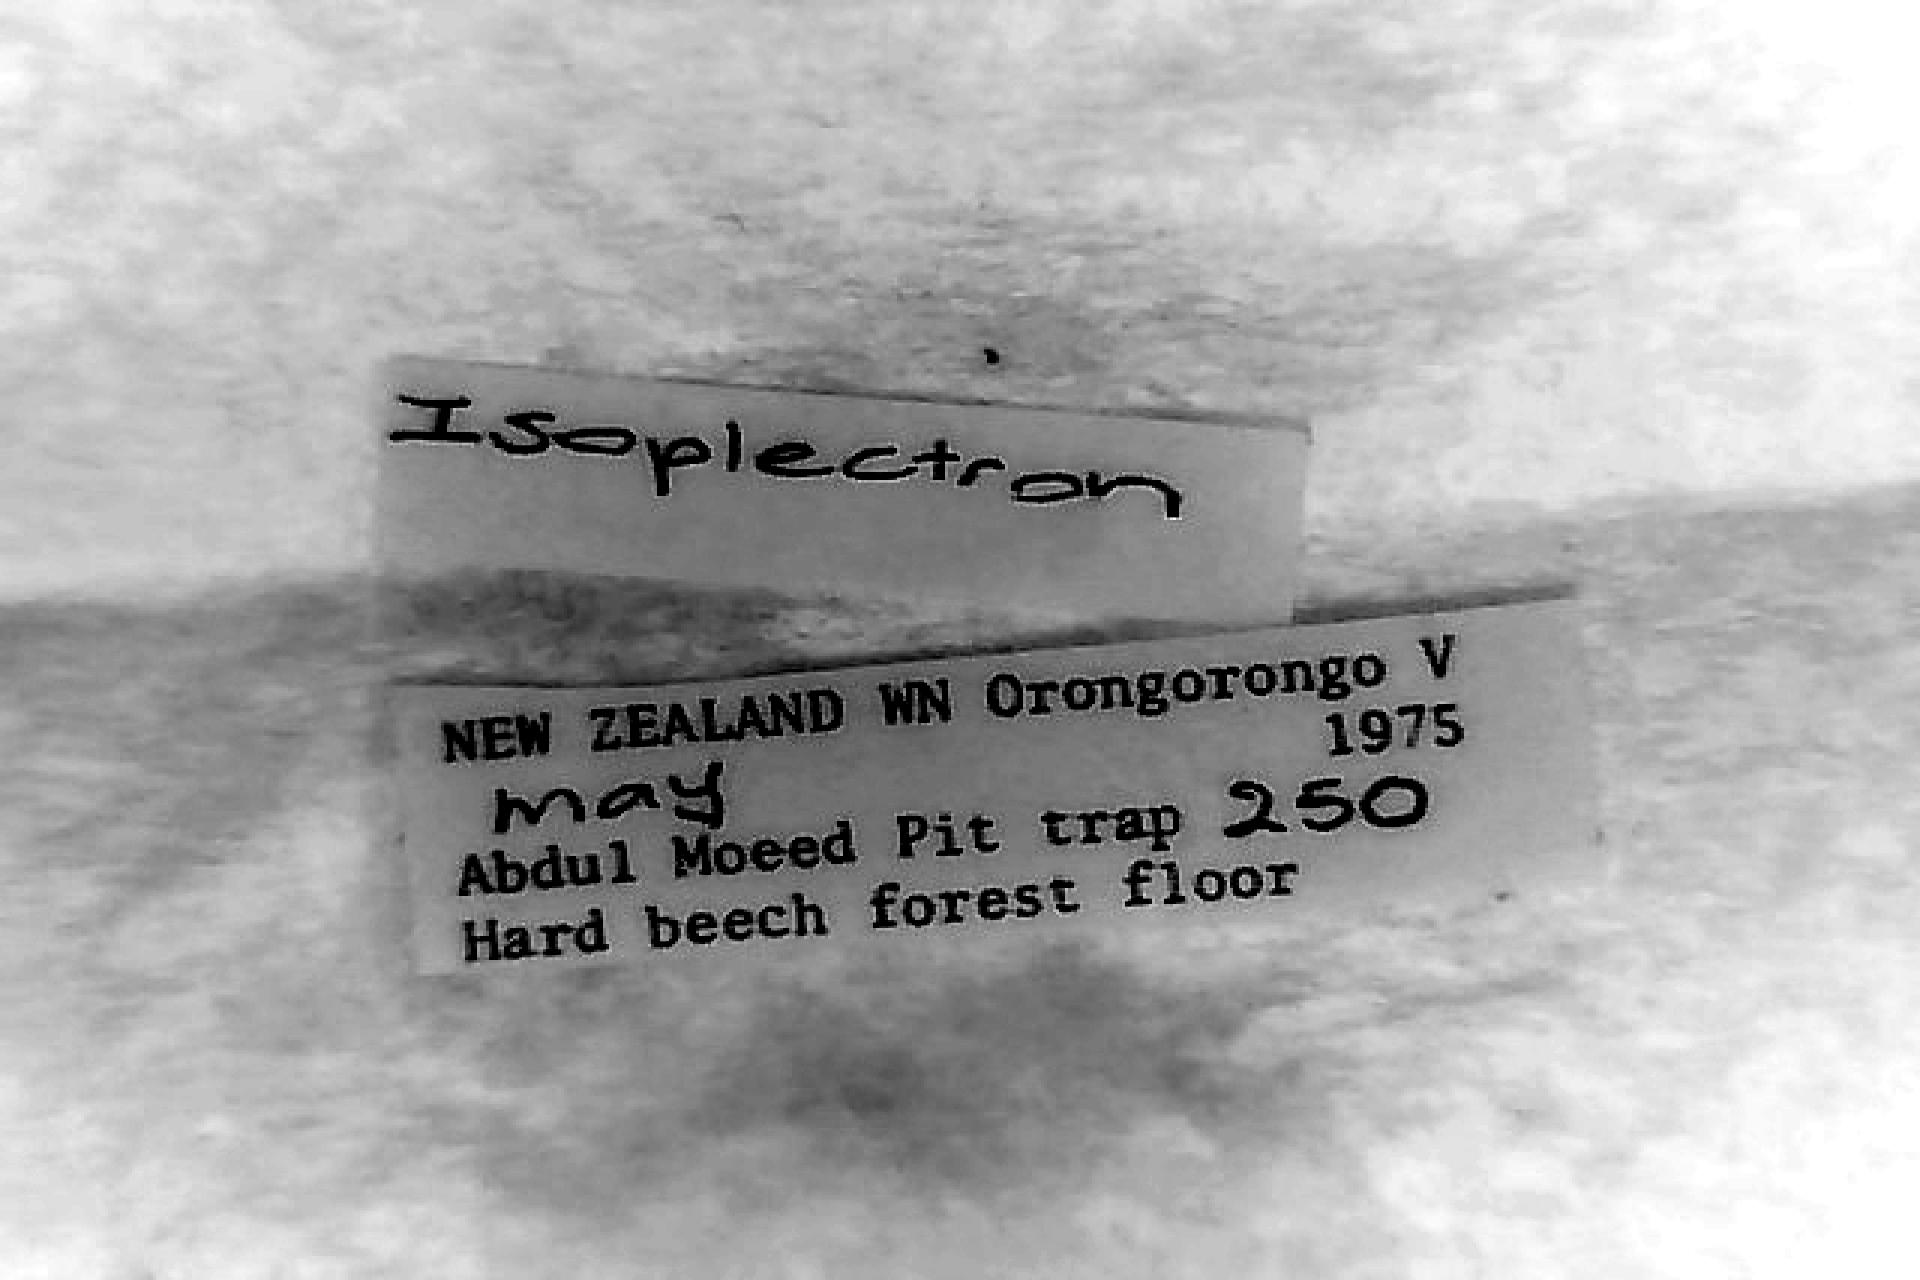hand_label: (399, 603, 1598, 970), (375, 357, 1309, 622)
